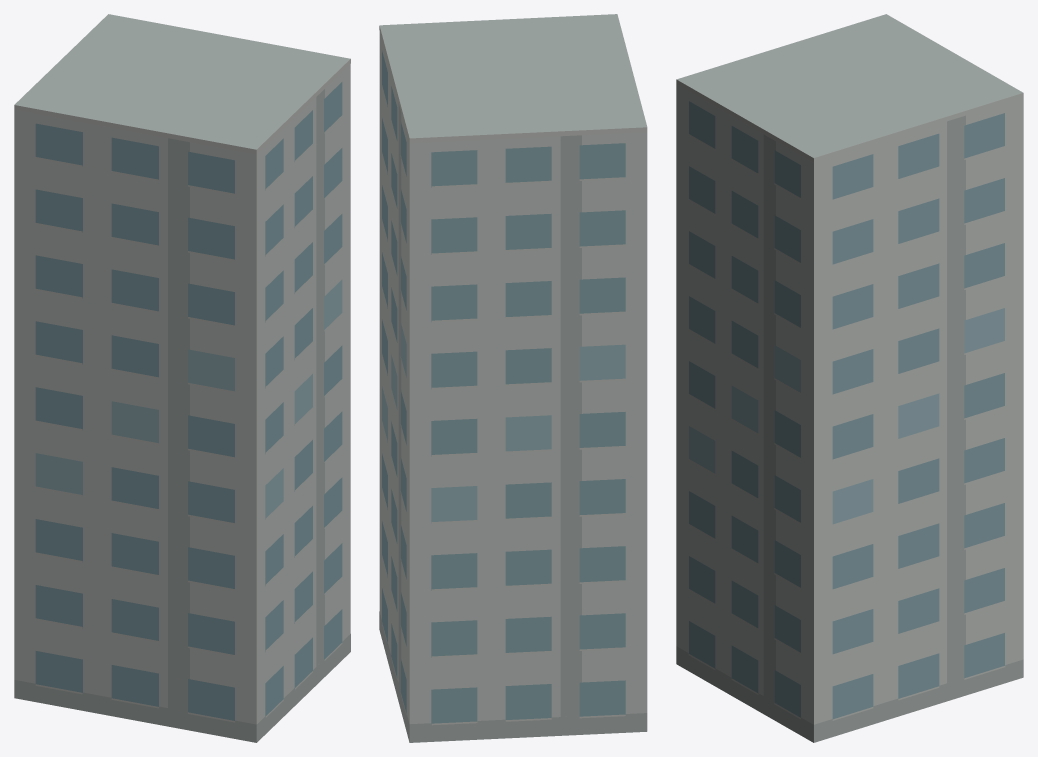
File: residential-8fcc4d5b-15f2-4cd8-8804-c98c4ec7017a.glb
3 views of the same model, side by side, from view 1: azimuth 30°, elevation 25°; view 2: azimuth 150°, elevation 25°; view 3: azimuth 270°, elevation 25° (orthographic). The views are drawn at different scales.
Parts seen in each view (by area): view 1: residential-8fcc4d5b-15f2-4cd8-8804-c98c4ec7017a.tmp; view 2: residential-8fcc4d5b-15f2-4cd8-8804-c98c4ec7017a.tmp; view 3: residential-8fcc4d5b-15f2-4cd8-8804-c98c4ec7017a.tmp.
Boxes of the visible parts, <box> form: residential-8fcc4d5b-15f2-4cd8-8804-c98c4ec7017a.tmp: <box>14,14,350,742</box>; residential-8fcc4d5b-15f2-4cd8-8804-c98c4ec7017a.tmp: <box>379,14,647,742</box>; residential-8fcc4d5b-15f2-4cd8-8804-c98c4ec7017a.tmp: <box>676,14,1023,742</box>.
Size of the model in its own units: 15.87 by 30 by 16.15.
